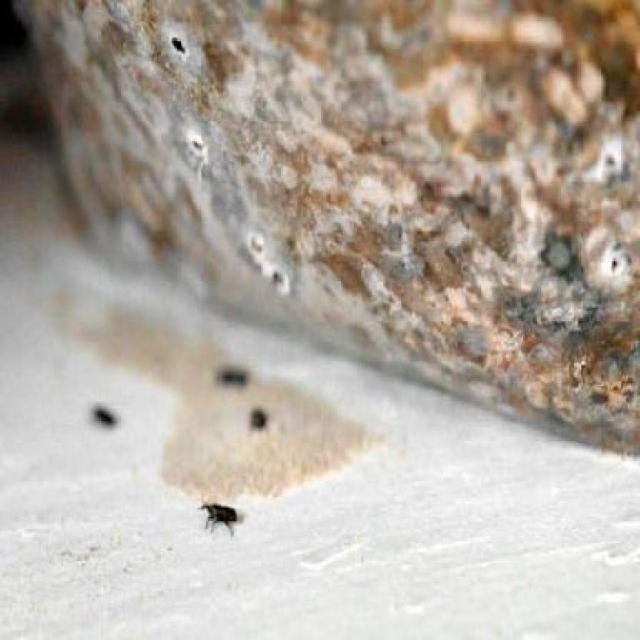rice-bug: (199, 501, 239, 537), (92, 395, 123, 433), (212, 368, 257, 390), (248, 409, 272, 436)
